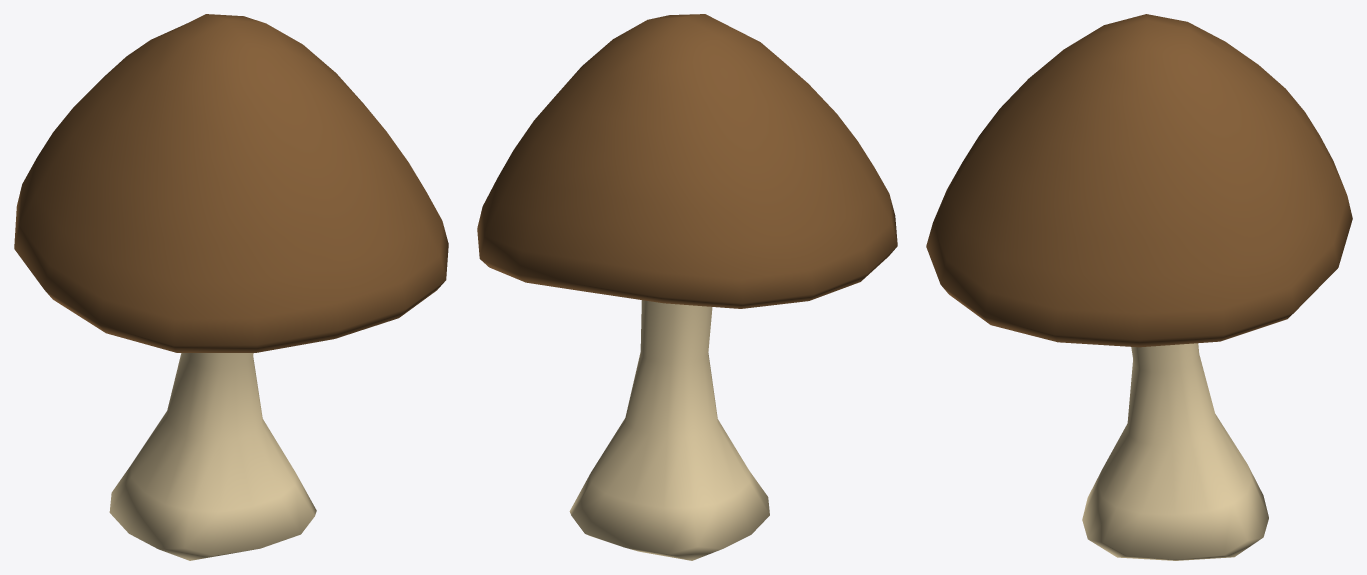
The model's file is S-Mushroom.fbx.
3 renders of one model, left to right at view 1: azimuth 30°, elevation 25°; view 2: azimuth 150°, elevation 25°; view 3: azimuth 270°, elevation 25°, orthographic. The views are drawn at different scales.
Parts seen in each view (by area): view 1: Cube; view 2: Cube; view 3: Cube.
Boxes of the visible parts, x1,y1,x2,y2 form: Cube: (14,14,448,560); Cube: (477,14,897,560); Cube: (926,14,1352,560).
Bounding box in the file's own units: 177 × 236 × 177.
